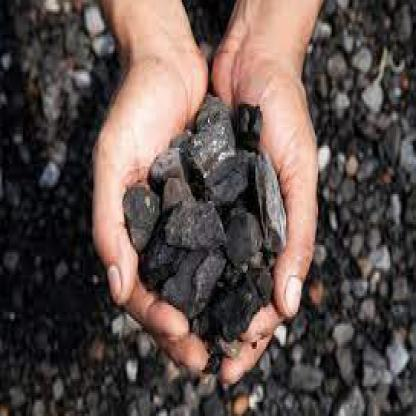Sedimentary_coal: (184, 150, 290, 291)
